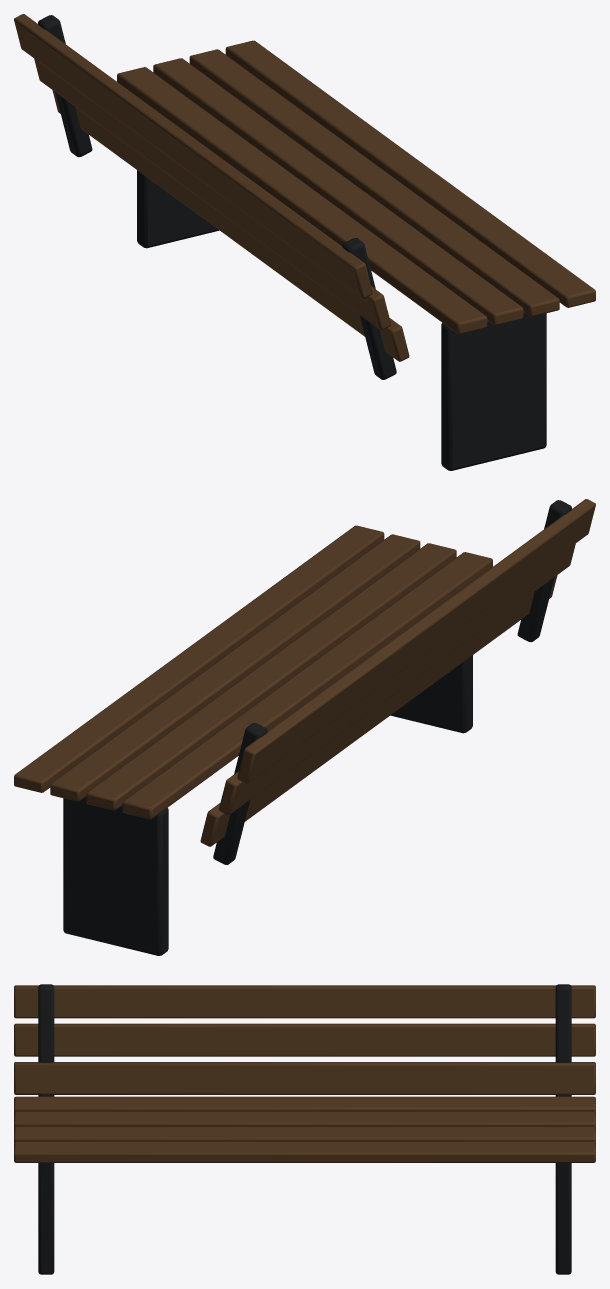
File: bank.glb
3 renders of one model, top to bottom at view 1: azimuth 30°, elevation 25°; view 2: azimuth 150°, elevation 25°; view 3: azimuth 270°, elevation 25°, orthographic. The views are drawn at different scales.
Visible parts, largest first — view 1: Cube.009, Cube.006, Cube, Cube.003, Cube.002, Cube.001, Cube.005, Cube.004, Cube.007, Cube.010, Cube.008; view 2: Cube.007, Cube.006, Cube, Cube.003, Cube.002, Cube.001, Cube.005, Cube.004, Cube.009, Cube.008, Cube.010; view 3: Cube.004, Cube.006, Cube.005, Cube.003, Cube, Cube.001, Cube.002, Cube.007, Cube.009, Cube.008, Cube.010.
Part boxes in pixels (bbox=[...]): Cube.009: bbox=[441, 312, 546, 470]; Cube.006: bbox=[14, 14, 372, 298]; Cube: bbox=[117, 67, 487, 334]; Cube.003: bbox=[225, 40, 595, 307]; Cube.002: bbox=[189, 49, 559, 316]; Cube.001: bbox=[153, 58, 523, 325]; Cube.005: bbox=[34, 58, 390, 330]; Cube.004: bbox=[52, 90, 409, 361]; Cube.007: bbox=[137, 170, 219, 248]; Cube.010: bbox=[342, 238, 396, 379]; Cube.008: bbox=[38, 15, 92, 157]; Cube.007: bbox=[63, 797, 168, 955]; Cube.006: bbox=[237, 499, 595, 783]; Cube: bbox=[122, 552, 492, 819]; Cube.003: bbox=[14, 525, 384, 792]; Cube.002: bbox=[50, 534, 420, 801]; Cube.001: bbox=[86, 543, 456, 810]; Cube.005: bbox=[219, 543, 575, 815]; Cube.004: bbox=[200, 575, 557, 846]; Cube.009: bbox=[390, 655, 472, 733]; Cube.008: bbox=[213, 723, 267, 864]; Cube.010: bbox=[517, 500, 571, 642]; Cube.004: bbox=[14, 1062, 595, 1094]; Cube.006: bbox=[14, 985, 595, 1018]; Cube.005: bbox=[14, 1023, 595, 1056]; Cube.003: bbox=[14, 1142, 595, 1162]; Cube: bbox=[14, 1096, 595, 1112]; Cube.001: bbox=[14, 1111, 595, 1127]; Cube.002: bbox=[14, 1126, 595, 1142]; Cube.007: bbox=[555, 1163, 571, 1274]; Cube.009: bbox=[38, 1163, 54, 1274]; Cube.008: bbox=[555, 984, 571, 1096]; Cube.010: bbox=[38, 984, 54, 1096].
Size of the model in its own units: 0.7327 by 0.7267 by 1.8.
